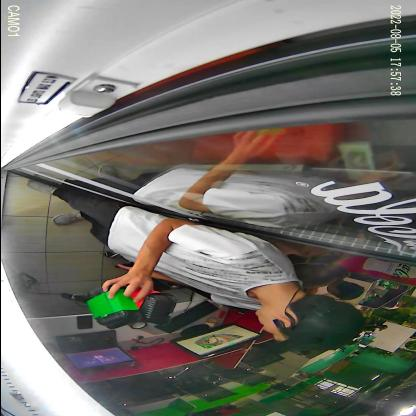green: (85, 284, 142, 330)
red: (124, 286, 177, 326)
